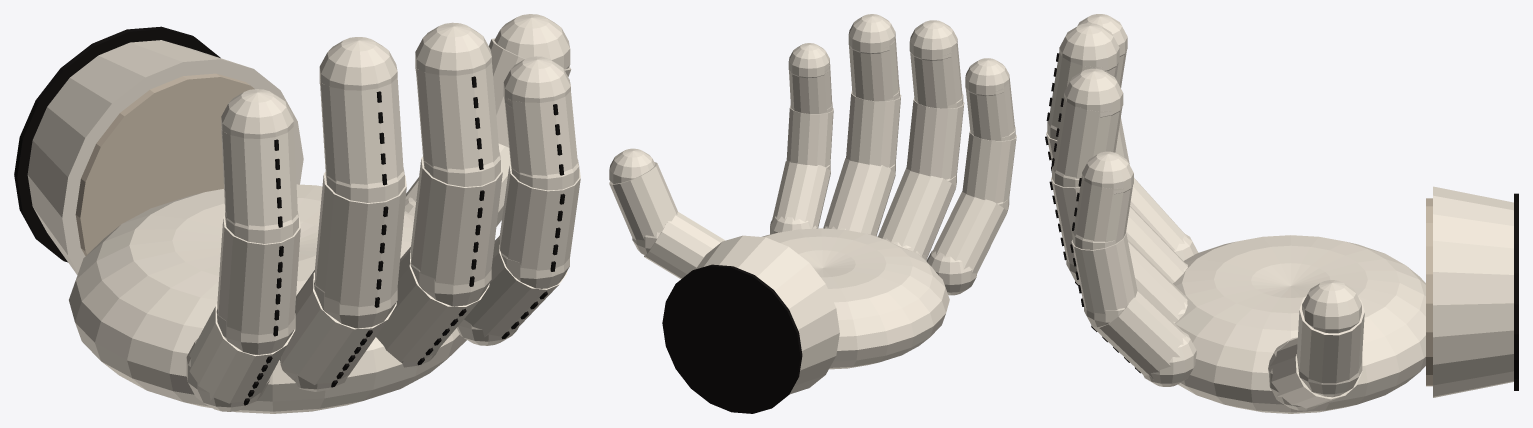
Rendered from usher_glove_open.glb.
3 renders of one model, left to right at view 1: azimuth 30°, elevation 25°; view 2: azimuth 150°, elevation 25°; view 3: azimuth 270°, elevation 25°, orthographic. The views are drawn at different scales.
Visible parts, largest first — view 1: usher_glove_open; view 2: usher_glove_open; view 3: usher_glove_open.
Boxes of the visible parts, box(x1,y1,x2,y2) form: usher_glove_open: box(14, 14, 580, 413); usher_glove_open: box(609, 14, 1016, 413); usher_glove_open: box(1045, 14, 1518, 413).
Size of the model in its own units: 0.3702 by 0.321 by 0.4.
